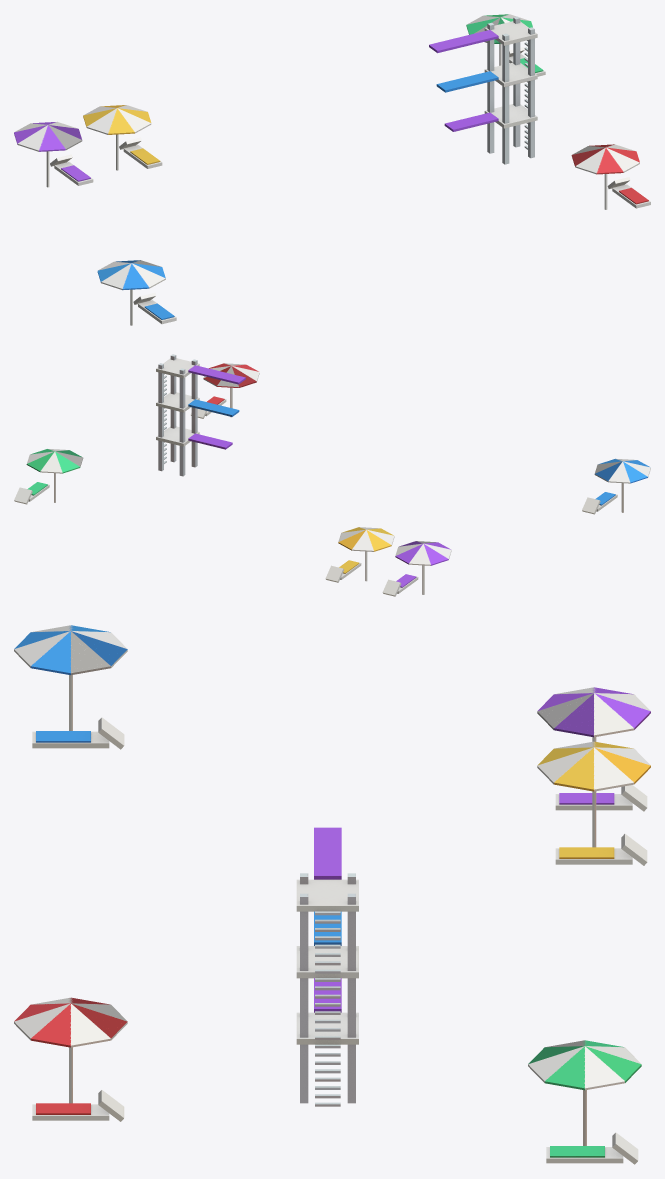
The model's file is area_pool_4_5.fbx.
The picture shows the model from 3 angles, top to bottom: view 1: azimuth 30°, elevation 25°; view 2: azimuth 150°, elevation 25°; view 3: azimuth 270°, elevation 25°; orthographic projection. The views are drawn at different scales.
Parts seen in each view (by area): view 1: area_pool_4_5_body; view 2: area_pool_4_5_body; view 3: area_pool_4_5_body.
Boxes of the visible parts, x1,y1,x2,y2 form: area_pool_4_5_body: [14, 14, 650, 325]; area_pool_4_5_body: [14, 354, 650, 596]; area_pool_4_5_body: [14, 625, 650, 1164].
Bounding box in the file's own units: 14988 × 3100 × 8675.
1 material, 1 textured.
